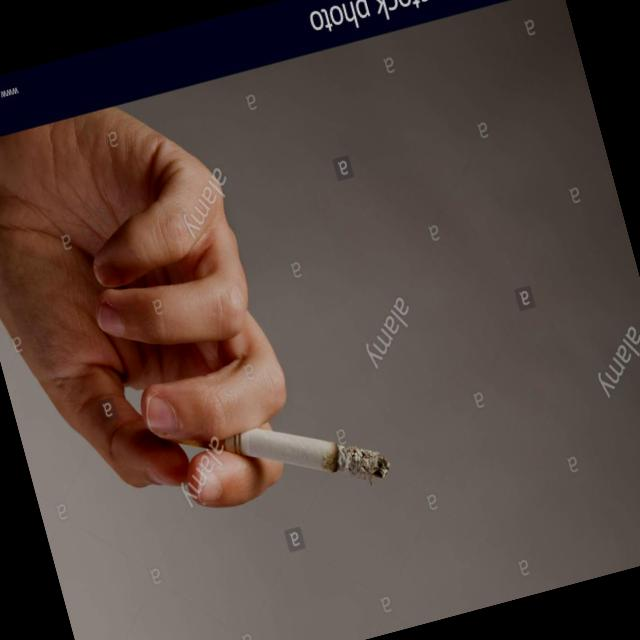smoke: (184, 385, 393, 524)
